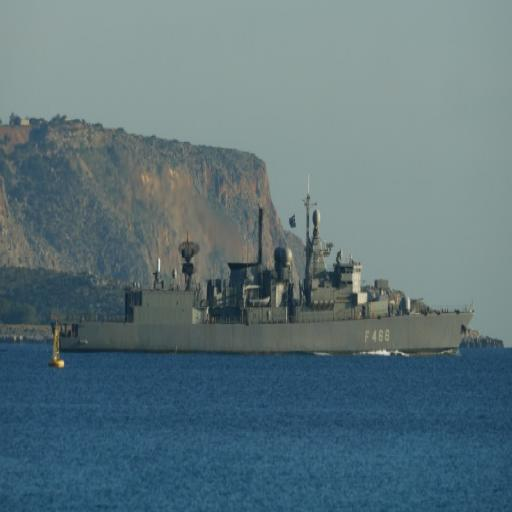Fragata: (53, 167, 479, 363)
